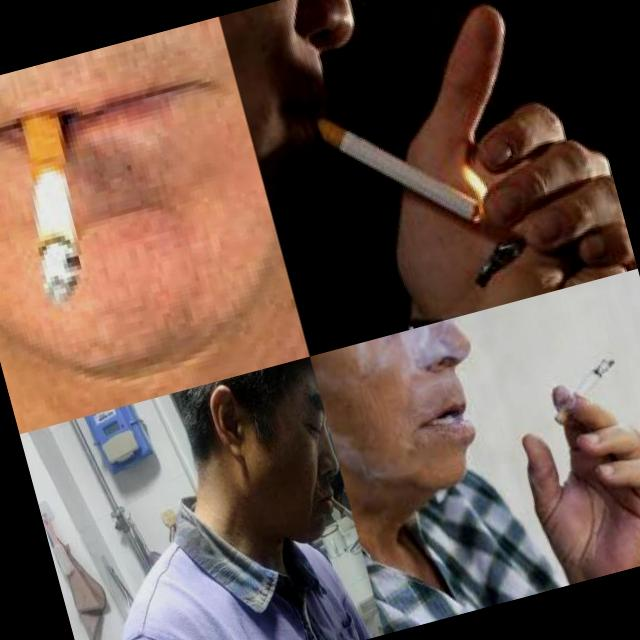smoke: (306, 74, 486, 256), (0, 95, 107, 306), (542, 356, 626, 426), (328, 490, 357, 538)
